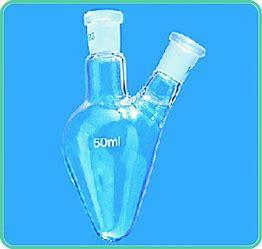Pear shaped flask: (40, 7, 204, 240)
